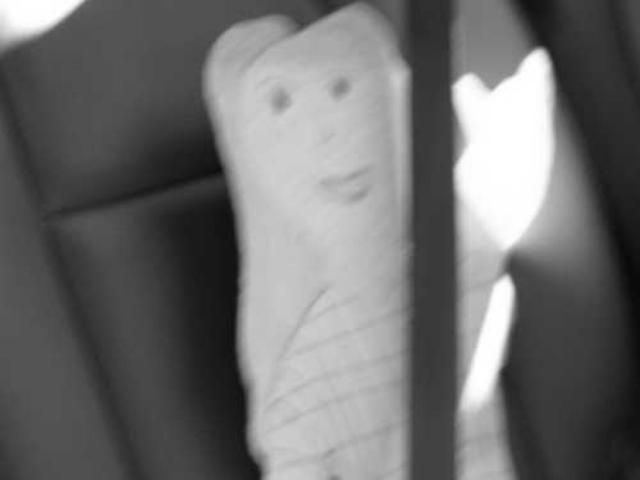Seatbelt: (401, 0, 464, 480)
